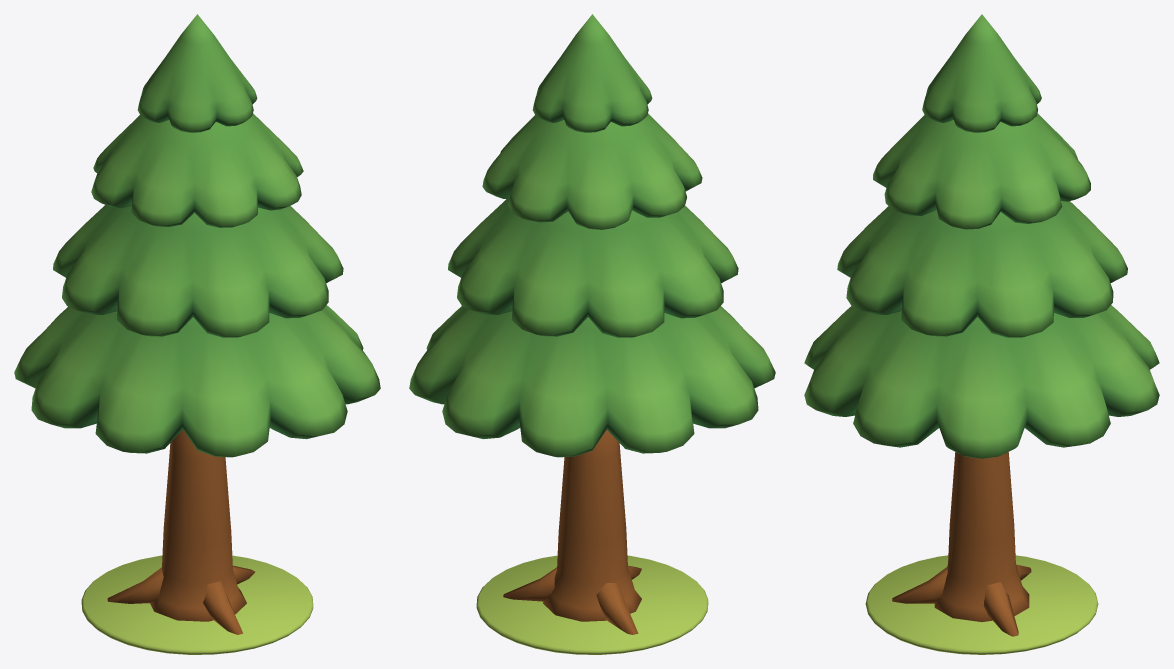
Rendered from pine-tree.glb.
The picture shows the model from 3 angles, left to right: view 1: azimuth 30°, elevation 25°; view 2: azimuth 150°, elevation 25°; view 3: azimuth 270°, elevation 25°; orthographic projection.
Visible parts, largest first — view 1: body, base_disc; view 2: body, base_disc; view 3: body, base_disc.
Boxes of the visible parts, left/top/right/bottom form: body: left=14, top=14, right=380, bottom=634; base_disc: left=81, top=555, right=313, bottom=654; body: left=409, top=14, right=775, bottom=634; base_disc: left=476, top=555, right=708, bottom=654; body: left=804, top=14, right=1159, bottom=636; base_disc: left=865, top=555, right=1098, bottom=654.
Bounding box in the file's own units: 2.6 × 4.63 × 2.51.
